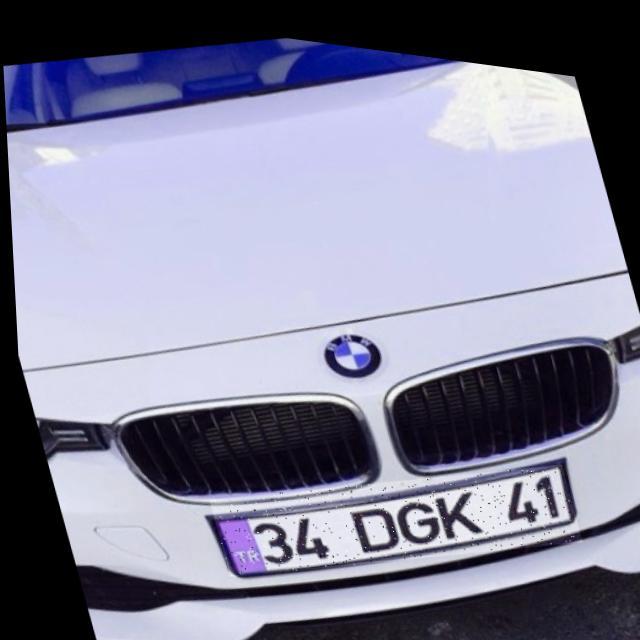license_plate: (200, 412, 580, 608)
